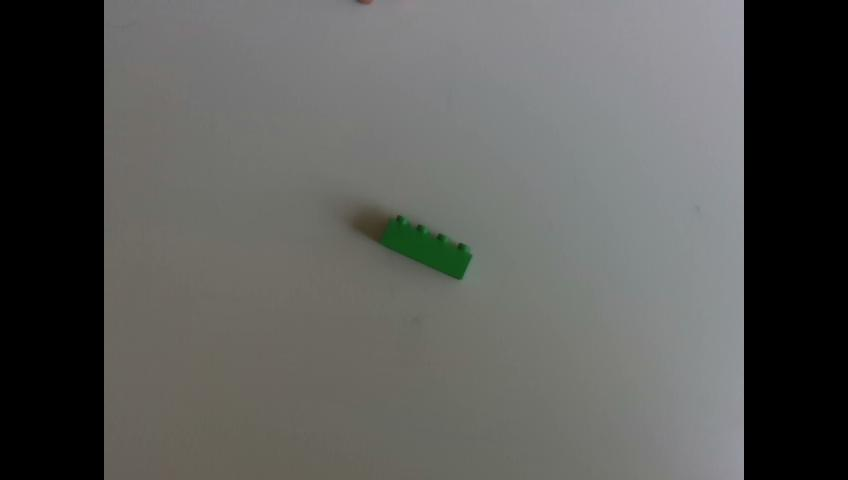4x2_green: (382, 215, 471, 279)
